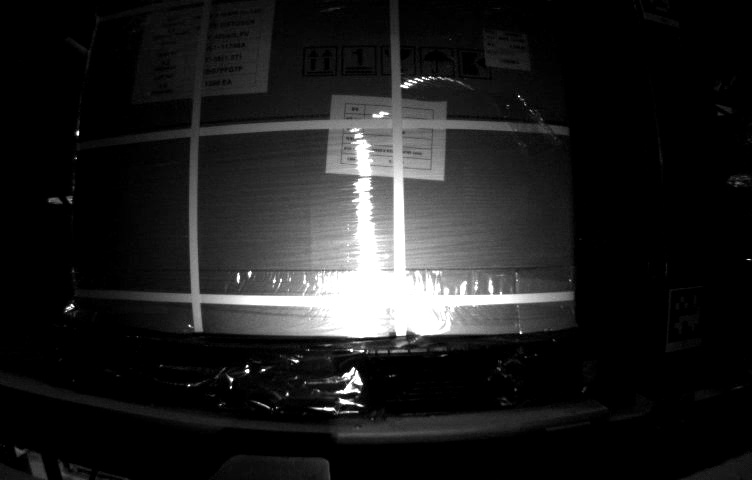True Barcode: (480, 25, 531, 71)
